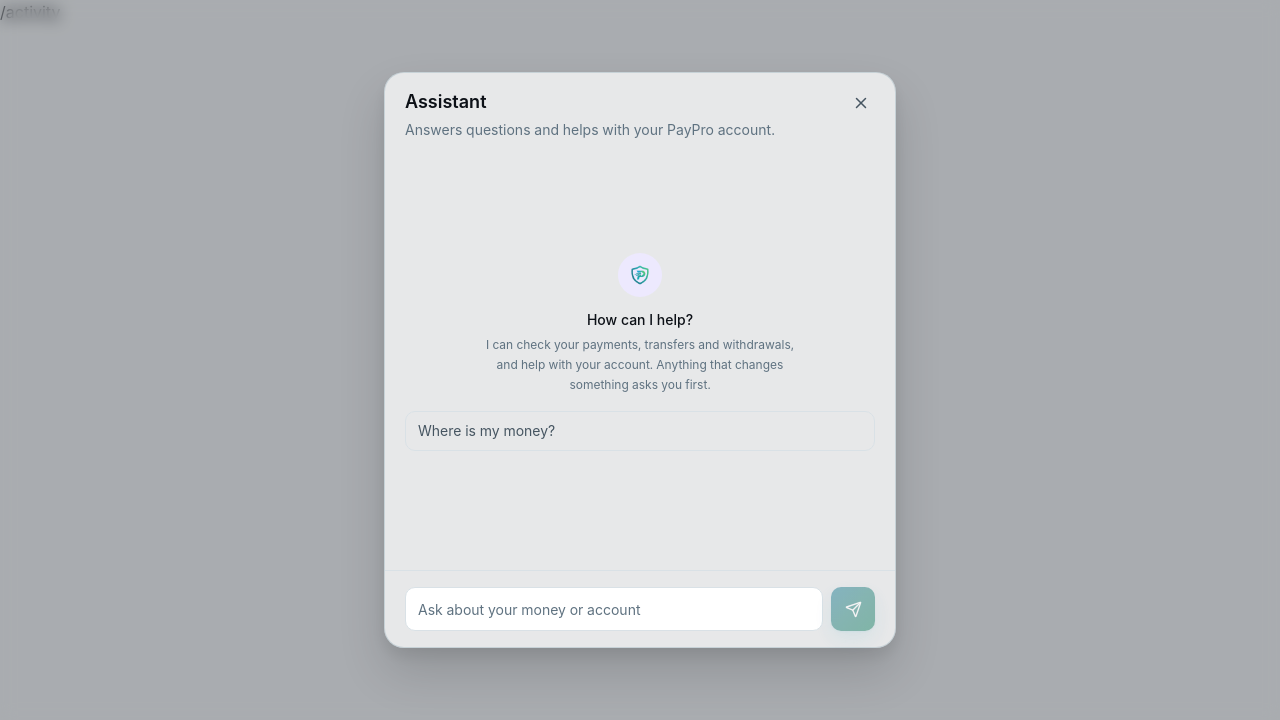
Test case: AssistantSheet — the server picks the assistant (plan.md §40.4) › v2: a link navigates and closes the sheet
The width and height of the screenshot is (1280, 720).
Click the button "Where is my money?" at [487, 430], box [405,410,875,450]
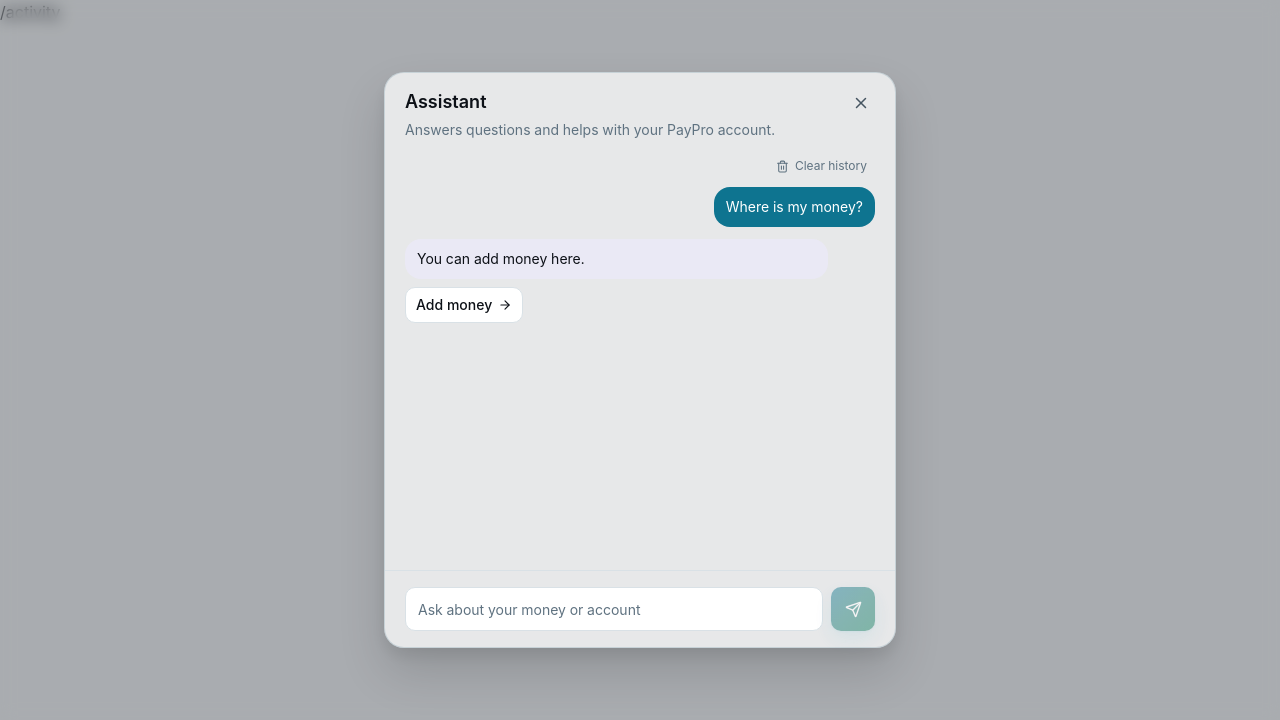
Click the button "Add money" at [464, 305], box [405,287,523,323]
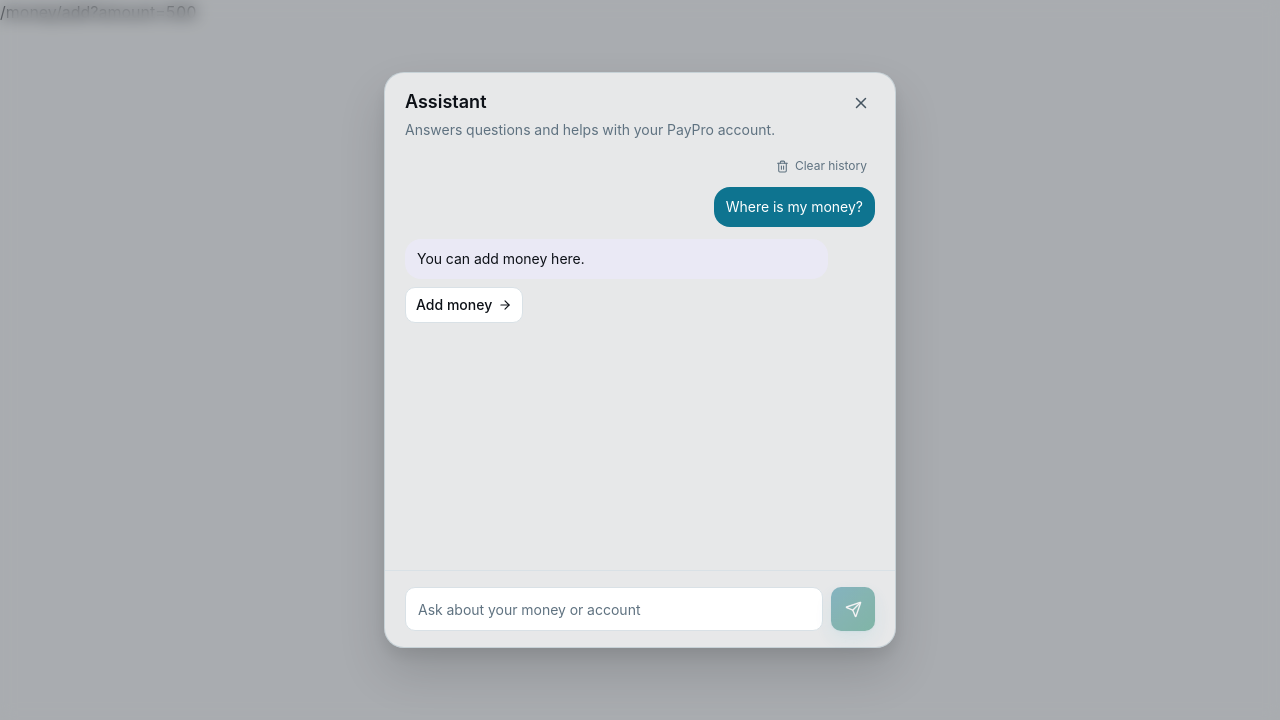
Expected: the text with test id "where" reads "/money/add?amount=500", [0,2,197,22]
